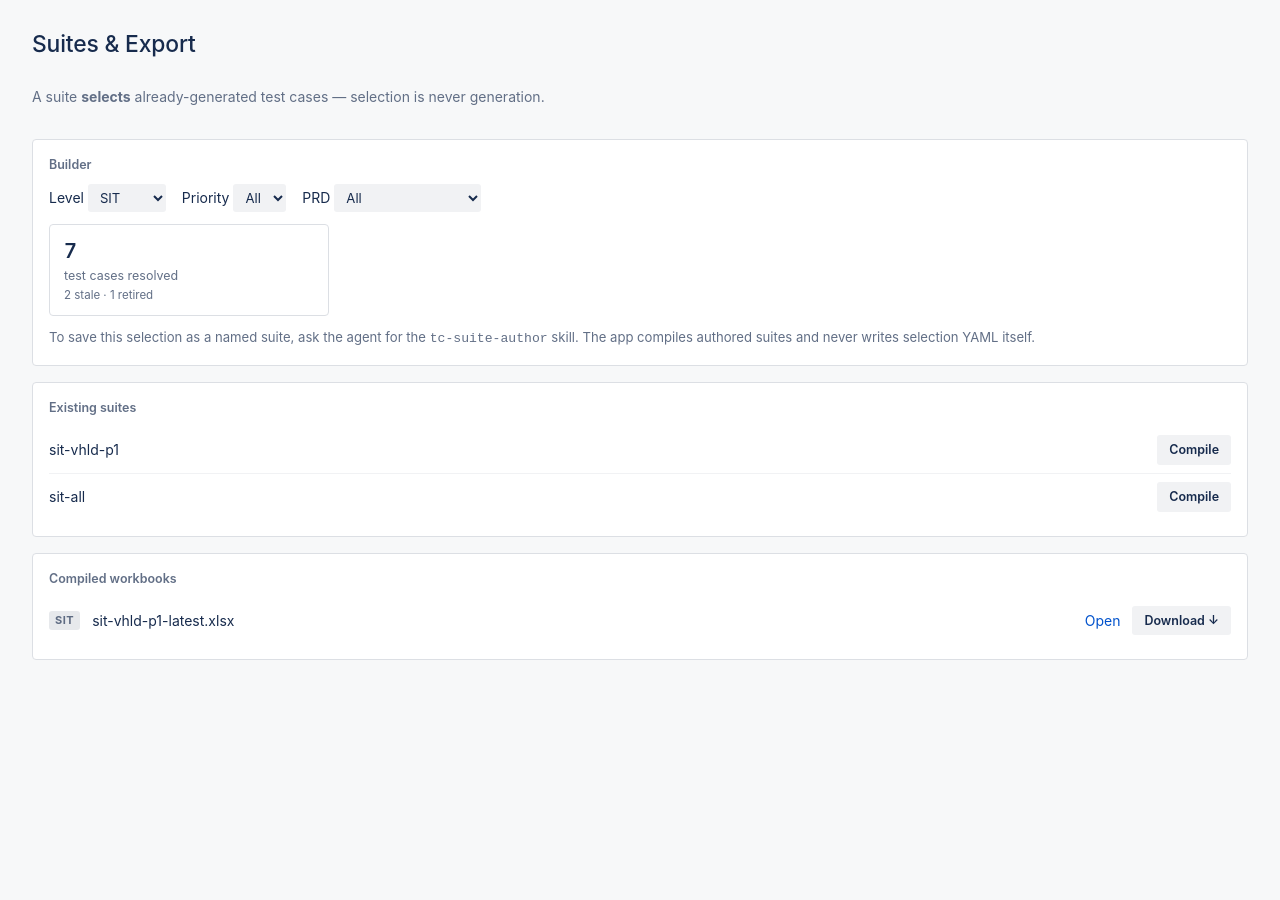
Test: SuitesPage › shows a refused compile in the command's own words, and clears it on the next try
Expected: the text "7" is shown, [64,239,77,263]
What coordinates should you click on to do the following:
click the 1st button "Compile"
I would click on:
 (1194, 450)
Its box is [1157,435,1231,465].
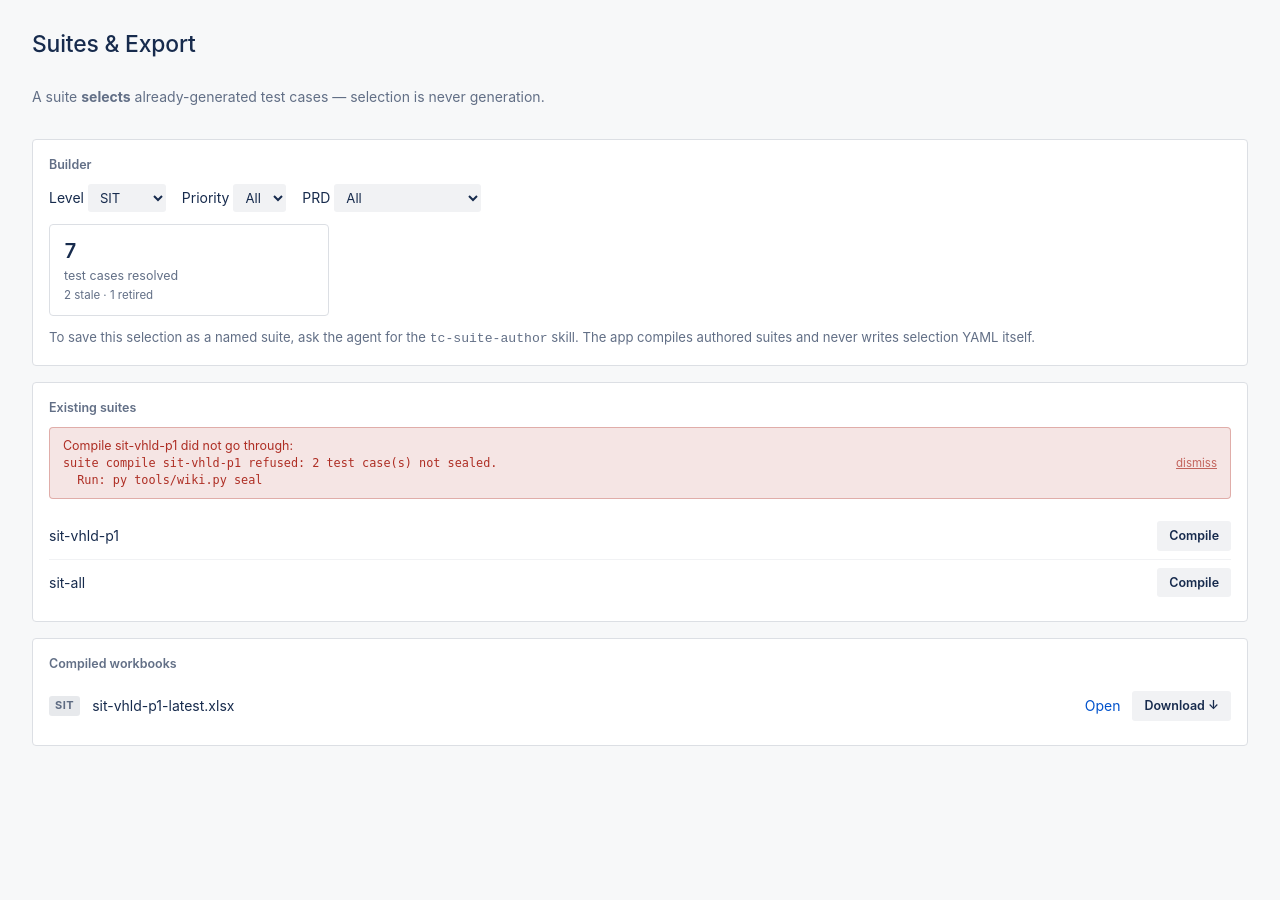
Now the text "refused: 2 test case(s) not sealed" is shown, box [63,456,497,487]
Now the text "Compile sit-vhld-p1 did not go through:" is shown, box [63,438,293,453]
What coordinates should you click on to do the following:
click the 1st button "Compile"
I would click on:
 (1194, 536)
Its box is [1157,521,1231,551].
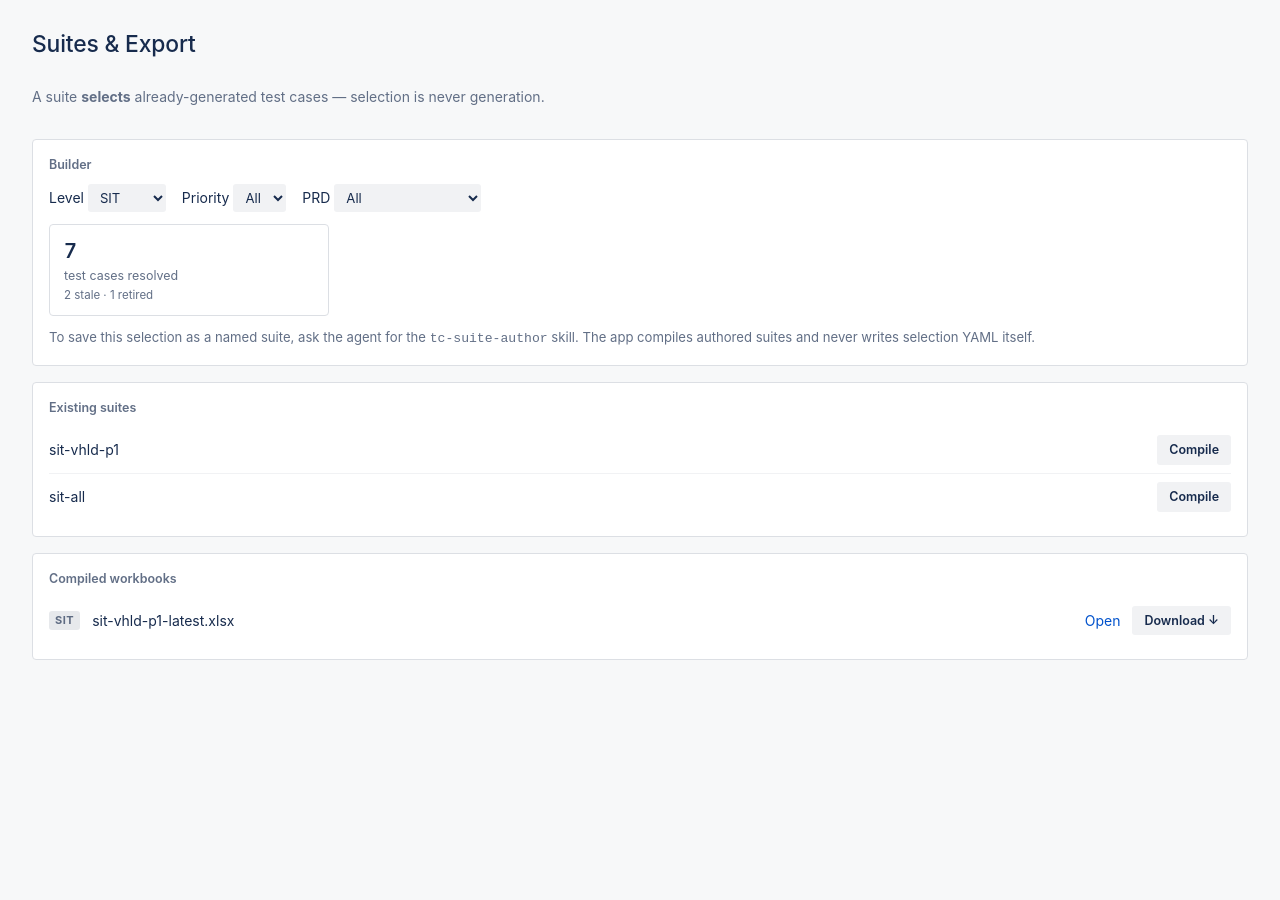
Now the text "not sealed" is gone
